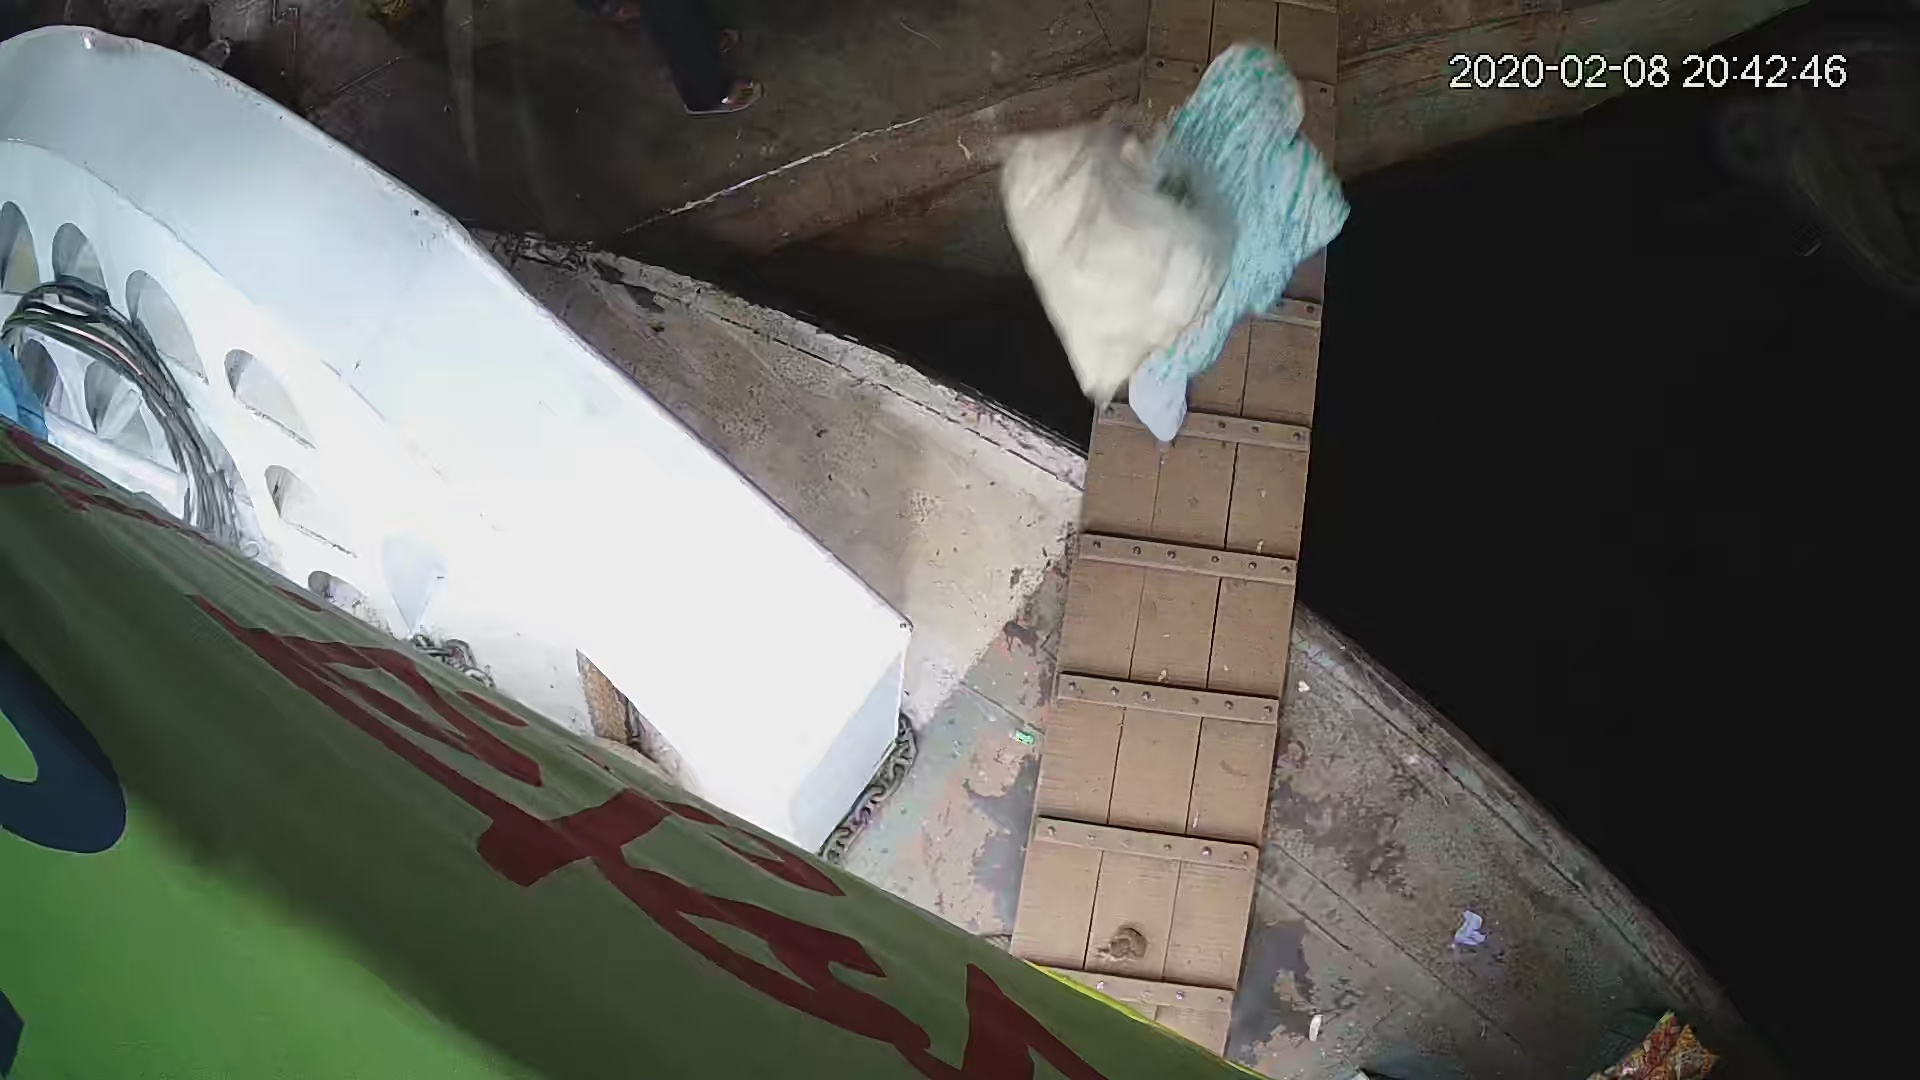person: (1111, 38, 1335, 447)
